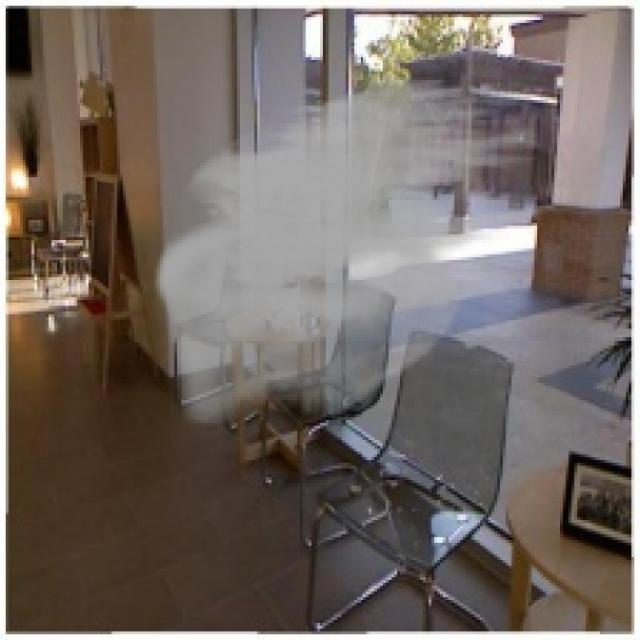Smoke: (155, 68, 540, 426)
